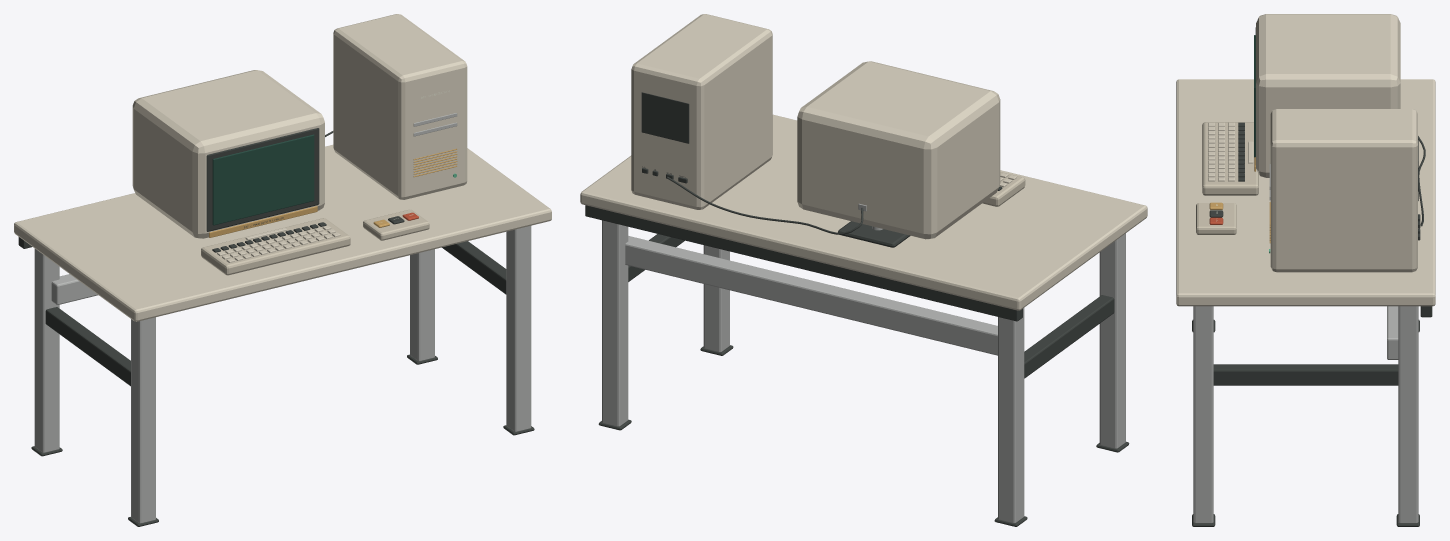
File: mask-console.glb
3 views of the same model, side by side, from view 1: azimuth 30°, elevation 25°; view 2: azimuth 150°, elevation 25°; view 3: azimuth 270°, elevation 25° (orthographic). The views are drawn at different scales.
Visible parts, largest first — view 1: DESK_DATUM, retro_case, terminal_shell, CRT_GLASS, leg.002, leg, leg.001, keyboard_case, leg.003, shadow_border, short_brace, short_brace.001 (+3 smaller); view 2: DESK_DATUM, terminal_shell, retro_case, rear_crossbrace, leg.001, leg.003, leg, desk_apron, short_brace, rear_vent, leg.002, post_foot; view 3: DESK_DATUM, retro_case, terminal_shell, leg.002, leg.003, short_brace.001, keyboard_case, control_pad, rear_crossbrace.
Part boxes in pixels (x1=…): DESK_DATUM: x1=14, y1=145, x2=551, y2=321; retro_case: x1=333, y1=14, x2=467, y2=199; terminal_shell: x1=132, y1=70, x2=324, y2=238; CRT_GLASS: x1=212, y1=134, x2=314, y2=225; leg.002: x1=506, y1=226, x2=531, y2=431; leg: x1=131, y1=317, x2=155, y2=523; leg.001: x1=34, y1=249, x2=59, y2=452; keyboard_case: x1=201, y1=218, x2=350, y2=275; leg.003: x1=410, y1=249, x2=434, y2=361; shadow_border: x1=206, y1=128, x2=319, y2=231; short_brace: x1=45, y1=307, x2=130, y2=386; short_brace.001: x1=442, y1=241, x2=506, y2=294; DESK_DATUM: x1=580, y1=114, x2=1147, y2=310; terminal_shell: x1=797, y1=61, x2=1000, y2=239; retro_case: x1=631, y1=14, x2=772, y2=209; rear_crossbrace: x1=625, y1=236, x2=997, y2=355; leg.001: x1=998, y1=308, x2=1024, y2=523; leg.003: x1=602, y1=220, x2=628, y2=426; leg: x1=1099, y1=233, x2=1125, y2=448; desk_apron: x1=585, y1=205, x2=1022, y2=321; short_brace: x1=1024, y1=295, x2=1114, y2=378; rear_vent: x1=641, y1=92, x2=689, y2=143; leg.002: x1=703, y1=245, x2=729, y2=352; post_foot: x1=838, y1=221, x2=910, y2=247; DESK_DATUM: x1=1176, y1=79, x2=1435, y2=306; retro_case: x1=1270, y1=109, x2=1417, y2=272; terminal_shell: x1=1256, y1=14, x2=1400, y2=177; leg.002: x1=1193, y1=306, x2=1213, y2=523; leg.003: x1=1398, y1=306, x2=1418, y2=523; short_brace.001: x1=1213, y1=364, x2=1398, y2=385; keyboard_case: x1=1202, y1=122, x2=1258, y2=195; control_pad: x1=1196, y1=203, x2=1236, y2=234; rear_crossbrace: x1=1387, y1=306, x2=1398, y2=359.
Size of the model in its own units: 1.44 by 1.15 by 0.73.
